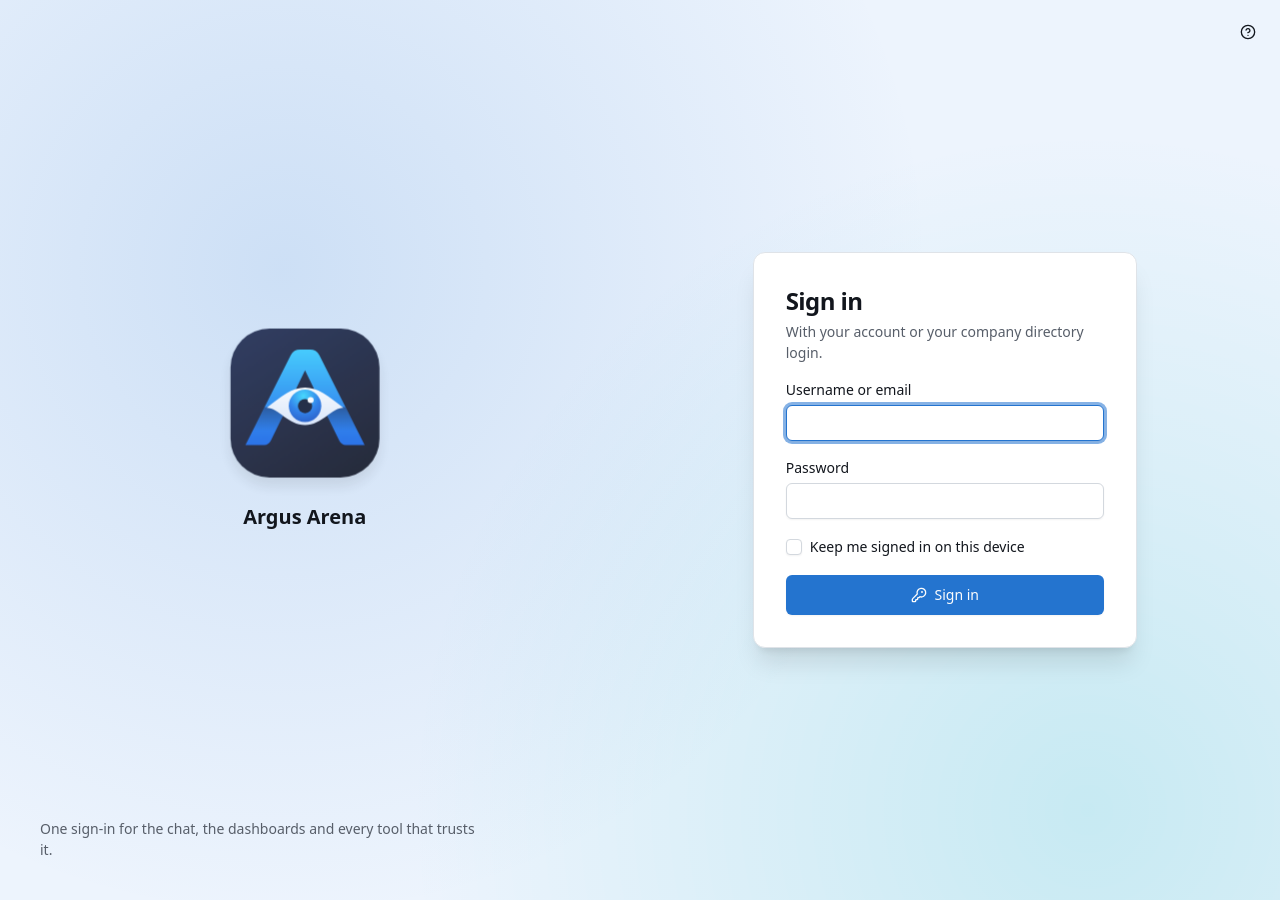
Test: sign-in › says what is missing before sending anything
This screenshot has width=1280, height=900.
Click the button "Sign in".
click(945, 595)  # box [786,575,1104,615]
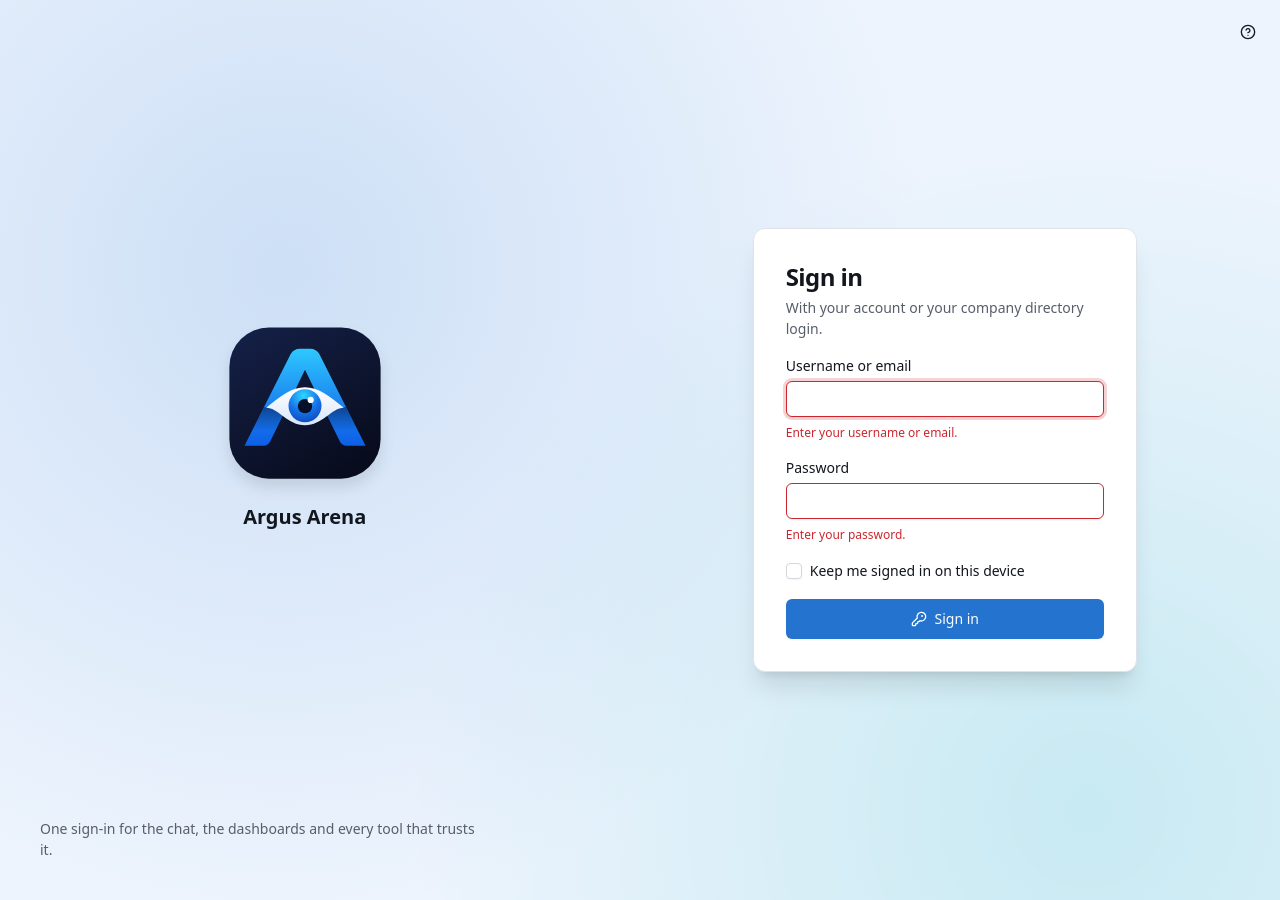
Expected: the text "Enter your username or email." is shown, [786,424,958,441]
